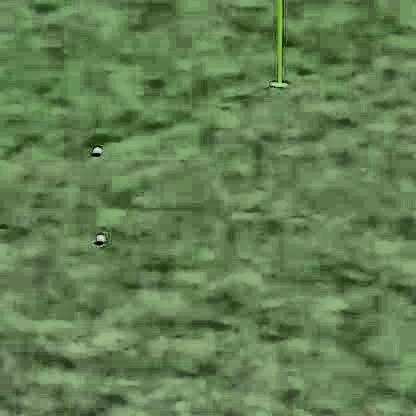golfball: (94, 231, 104, 241)
